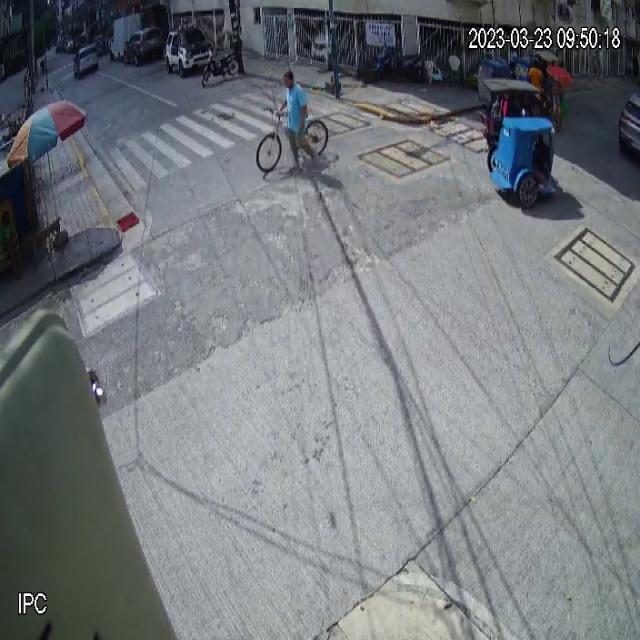Tricycle: (477, 76, 559, 209)
